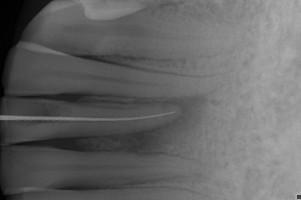Furcation Involvement: (115, 95, 208, 154)
